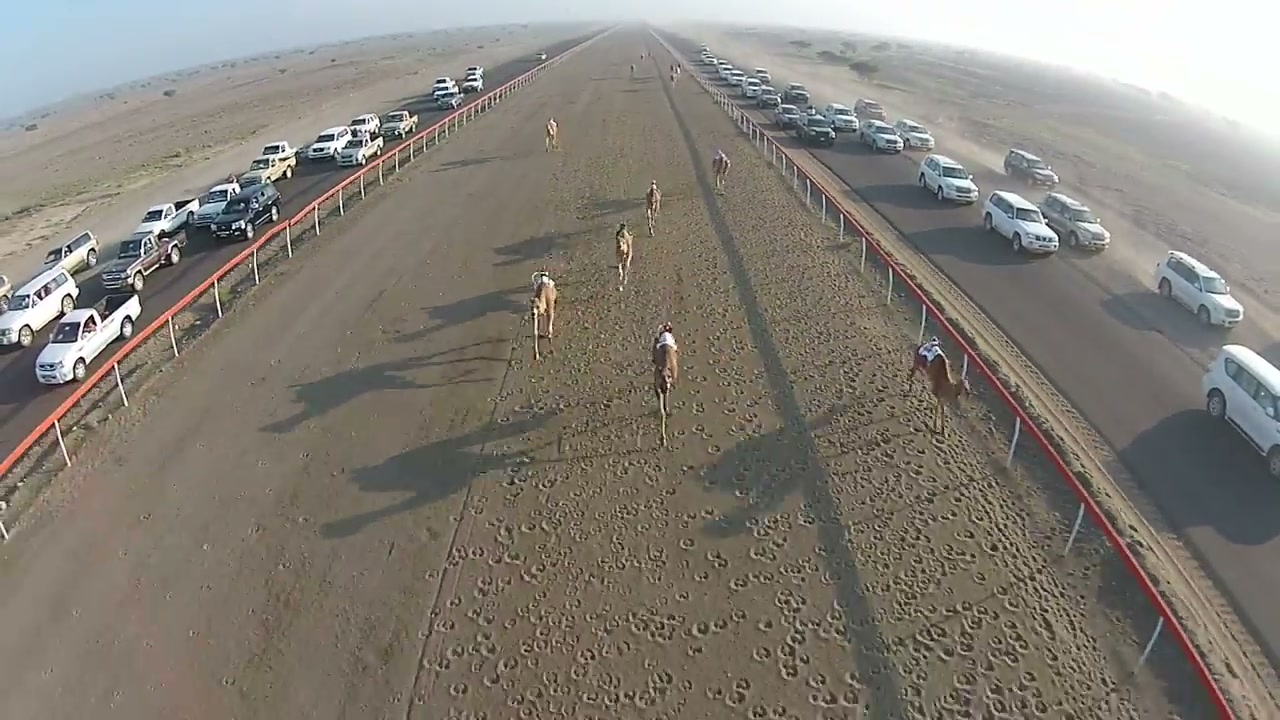animal_footprint: (870, 411, 1106, 719), (631, 389, 748, 717), (468, 337, 573, 695)
